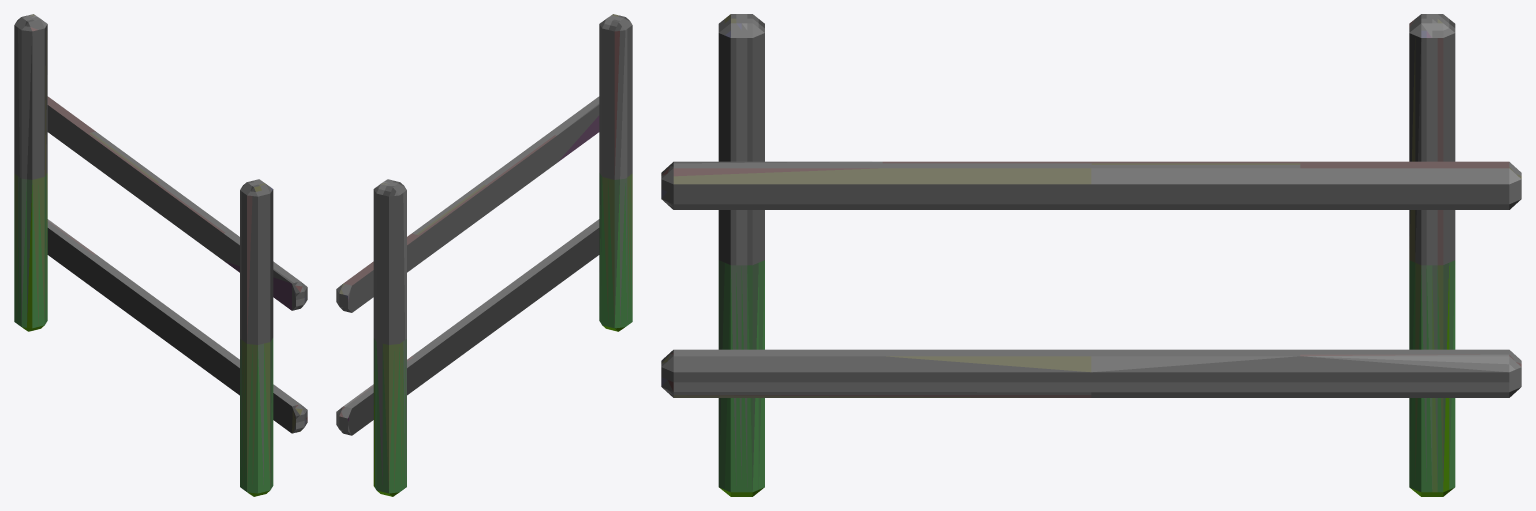
File: fenceFinal.dae
3 renders of one model, left to right at view 1: azimuth 30°, elevation 25°; view 2: azimuth 150°, elevation 25°; view 3: azimuth 270°, elevation 25°, orthographic. The views are drawn at different scales.
Parts seen in each view (by area): view 1: fenceFinal; view 2: fenceFinal; view 3: fenceFinal.
Boxes of the visible parts, <box> form: fenceFinal: <box>14,14,307,496</box>; fenceFinal: <box>336,14,632,496</box>; fenceFinal: <box>661,14,1521,496</box>.
Size of the model in its own units: 0.066 by 0.7689 by 0.4672.
